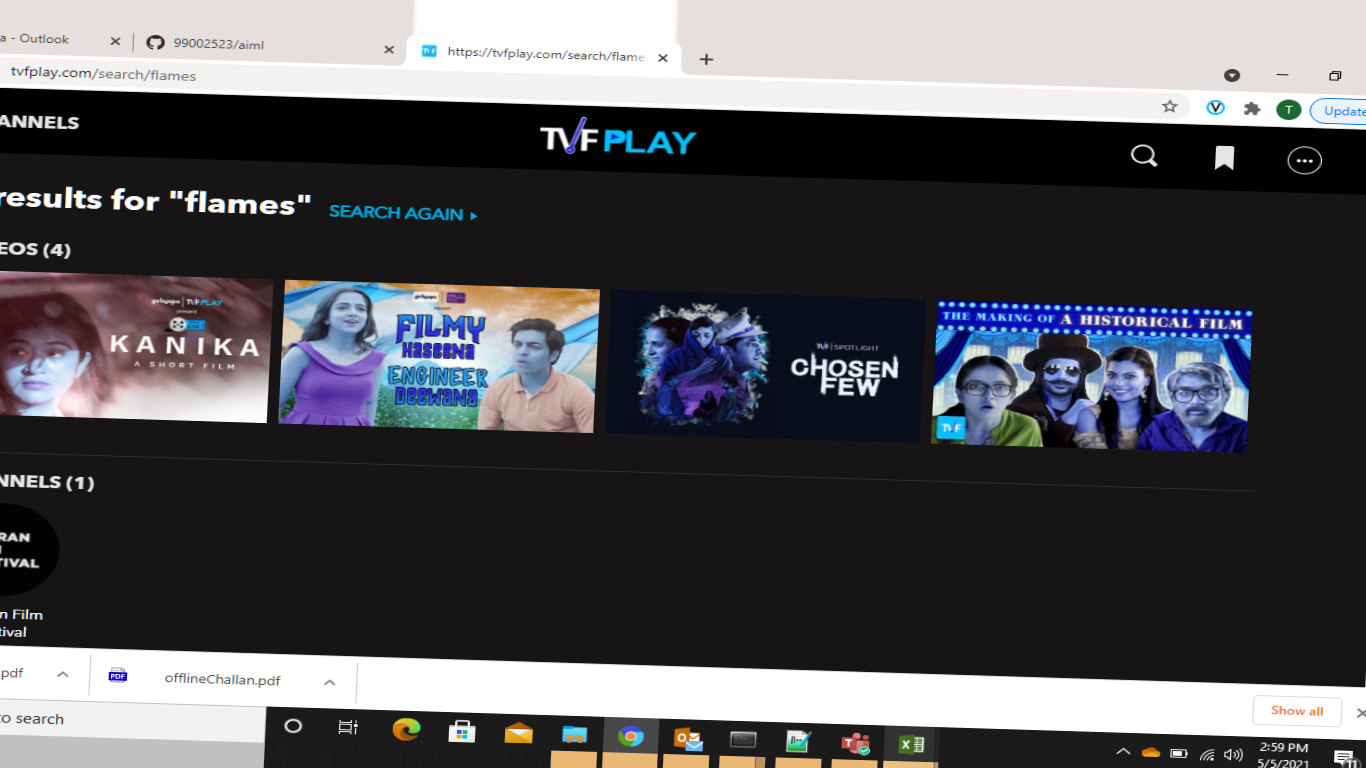resultsfound: (1, 168, 511, 251)
searchicon: (1126, 134, 1183, 179)
